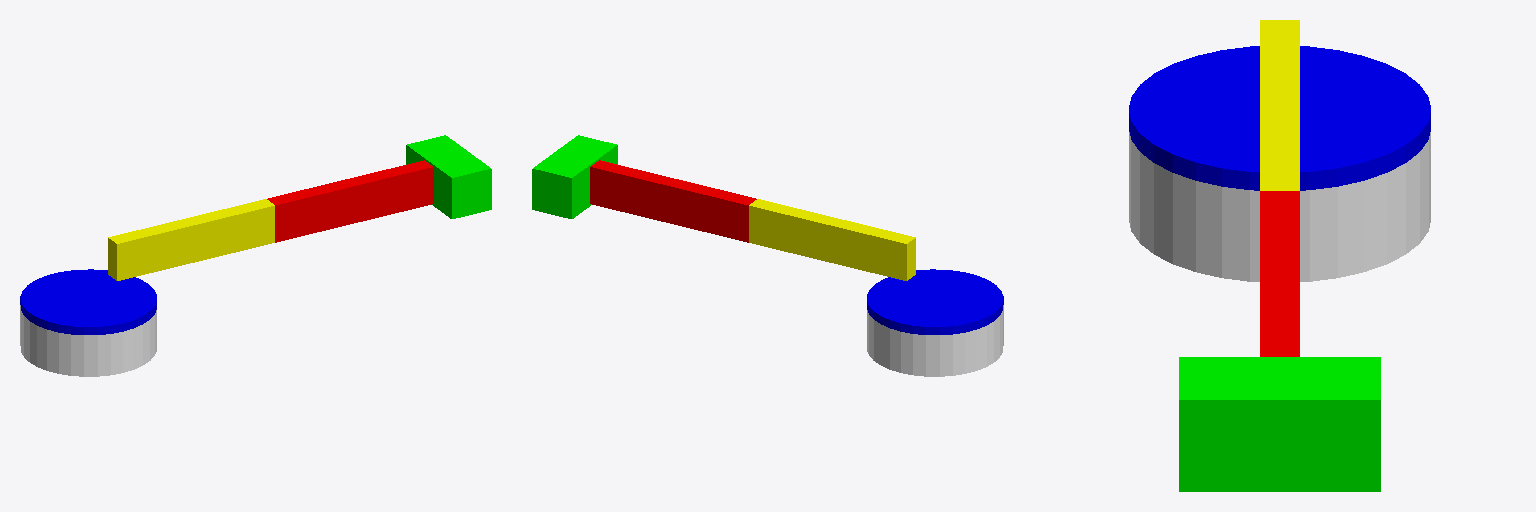
The robot description file, URDF, robot "URA":
<?xml version="1.0"?>
<robot name="URA">

    <link name="base_link">
        <visual name="base_viz">
            <origin xyz="0 0 0" rpy="0 0 0"/>
            <geometry>
                <cylinder radius="0.075" length="0.05"/>
            </geometry>
            <material name="White">
                <color rgba="1 1 1 1"/>
            </material>
        </visual>

        <collision>
            <origin rpy="0 0 0" xyz="0 0 0"/>
            <geometry>
                <cylinder radius="0.075" length="0.05"/>
            </geometry>
        </collision>

        <inertial>
            <mass value="1"/>
            <inertia ixx="1.0" ixy="0.0" ixz="0.0" iyy="0.5" iyz="0.0" izz="1.0"/>
        </inertial>
    </link>
    <gazebo reference="base_link">
        <material>Gazebo/White</material>
    </gazebo>

    <link name="base_plate">
        <visual name="base_plate_viz">
            <origin xyz="0 0 0" rpy="0 0 0"/>
            <geometry>
                <cylinder radius="0.075" length="0.01"/>
            </geometry>
            <material name="Blue">
                <color rgba="0 0 1 1"/>
            </material>
        </visual>

        <collision>
            <origin rpy="0 0 0" xyz="0 0 0"/>
            <geometry>
                <cylinder radius="0.075" length="0.01"/>
            </geometry>
        </collision>

        <inertial>
            <mass value="1"/>
            <inertia ixx="1.0" ixy="0.0" ixz="0.0" iyy="0.5" iyz="0.0" izz="1.0"/>
        </inertial>
    </link>
    <gazebo reference="base_plate">
        <material>Gazebo/Blue</material>
    </gazebo>

    <link name="bottom_arm">
        <visual name="bottom_arm_viz">
            <origin xyz="0.1 0 0" rpy="0 0 0"/>
            <geometry>
                <box size="0.20 0.02 0.045"/>
            </geometry>
            <material name="Yellow">
                <color rgba="1 1 0 1"/>
            </material>
        </visual>

        <collision>
            <origin rpy="0 0 0" xyz="0.1 0 0"/>
            <geometry>
                <box size="0.20 0.02 0.045"/>
            </geometry>
        </collision>

        <inertial>
            <mass value="1"/>
            <inertia ixx="1.0" ixy="0.0" ixz="0.0" iyy="0.5" iyz="0.0" izz="1.0"/>
        </inertial>
    </link>
    <gazebo reference="bottom_arm">
        <material>Gazebo/Yellow</material>
    </gazebo>

    <link name="top_arm">
        <visual name="top_arm_viz">
            <origin xyz="0.1 0 0" rpy="0 0 0"/>
            <geometry>
                <box size="0.20 0.02 0.045"/>
            </geometry>
            <material name="Red">
                <color rgba="1 0 0 1"/>
            </material>
        </visual>

        <collision>
            <origin rpy="0 0 0" xyz="0.1 0 0"/>
            <geometry>
                <box size="0.20 0.02 0.045"/>
            </geometry>
        </collision>

        <inertial>
            <mass value="1"/>
            <inertia ixx="1.0" ixy="0.0" ixz="0.0" iyy="0.5" iyz="0.0" izz="1.0"/>
        </inertial>
    </link>
    <gazebo reference="top_arm">
        <material>Gazebo/Red</material>
    </gazebo>

    <link name="tool">
        <visual name="tool_viz">
            <origin xyz="0 -0.1 0" rpy="0 0 0"/>
            <geometry>
                <box size="0.1 0.05 0.05"/>
            </geometry>
            <material name="Lime">
                <color rgba="0 1 0 1"/>
            </material>
        </visual>

        <collision>
            <origin rpy="0 0 0" xyz="0 -0.1 0"/>
            <geometry>
                <box size="0.1 0.05 0.05"/>
            </geometry>
        </collision>

        <inertial>
            <mass value="1"/>
            <inertia ixx="1.0" ixy="0.0" ixz="0.0" iyy="0.5" iyz="0.0" izz="1.0"/>
        </inertial>
    </link>
    <gazebo reference="tool">
        <material>Gazebo/Green</material>
    </gazebo>

    <joint name="base_rotation" type="revolute">
        <parent link="base_link"/>
        <child link="base_plate"/>
        <origin xyz="0 0 0.03" rpy="0 0 0" />
        <axis xyz="0 0 1"/>
        <limit lower="-3.14" upper="3.14" effort="10" velocity="10"/>
        <dynamics damping="50.0" friction="1.0"/>
    </joint>

    <joint name="bottom_rotation" type="revolute">
        <parent link="base_plate"/>
        <child link="bottom_arm"/>
        <origin xyz="0.03 0 0.045" rpy="0 0 0" />
        <axis xyz="0 1 0"/>
        <limit lower="-1.57" upper="0.0" effort="10" velocity="10"/>
        <dynamics damping="50.0" friction="1.0"/>
    </joint>

    <joint name="top_rotation" type="revolute">
        <parent link="bottom_arm"/>
        <child link="top_arm"/>
        <origin xyz="0.2 0 0" rpy="0 0 0" />
        <axis xyz="0 1 0"/>
        <limit lower="-1.57" upper="1.57" effort="10" velocity="10"/>
        <dynamics damping="50.0" friction="1.0"/>
    </joint>

    <joint name="tool_rotation" type="revolute">
        <parent link="top_arm"/>
        <child link="tool"/>
        <origin xyz="0.125 0 0" rpy="0 0 1.570796" />
        <axis xyz="0 1 0"/>
        <limit lower="-3.14" upper="3.14" effort="10" velocity="10"/>
        <dynamics damping="0.0" friction="0.0"/>
    </joint>

    <transmission name="tran1">
        <type>transmission_interface/SimpleTransmission</type>
        <joint name="base_rotation">
            <hardwareInterface>hardware_interface/PositionJointInterface</hardwareInterface>
        </joint>
        <actuator name="motor1">
            <hardwareInterface>hardware_interface/PositionJointInterface</hardwareInterface>
            <mechanicalReduction>1</mechanicalReduction>
        </actuator>
    </transmission>

    <transmission name="tran1">
        <type>transmission_interface/SimpleTransmission</type>
        <joint name="bottom_rotation">
            <hardwareInterface>hardware_interface/PositionJointInterface</hardwareInterface>
        </joint>
        <actuator name="motor1">
            <hardwareInterface>hardware_interface/PositionJointInterface</hardwareInterface>
            <mechanicalReduction>1</mechanicalReduction>
        </actuator>
    </transmission>

    <transmission name="tran1">
        <type>transmission_interface/SimpleTransmission</type>
        <joint name="top_rotation">
            <hardwareInterface>hardware_interface/PositionJointInterface</hardwareInterface>
        </joint>
        <actuator name="motor1">
            <hardwareInterface>hardware_interface/PositionJointInterface</hardwareInterface>
            <mechanicalReduction>1</mechanicalReduction>
        </actuator>
    </transmission>

    <transmission name="tran1">
        <type>transmission_interface/SimpleTransmission</type>
        <joint name="tool_rotation">
            <hardwareInterface>hardware_interface/PositionJointInterface</hardwareInterface>
        </joint>
        <actuator name="motor1">
            <hardwareInterface>hardware_interface/PositionJointInterface</hardwareInterface>
            <mechanicalReduction>1</mechanicalReduction>
        </actuator>
    </transmission>

    <!-- ros_control plugin -->
    <gazebo>
        <plugin filename="libgazebo_ros_control.so" name="gazebo_ros_control">
            <robotNamespace>/proc_ura</robotNamespace>
        </plugin>
    </gazebo>

</robot>

--- Facts derived from the render (not from the file) ---
3 views of the same robot in one strip: view 1: azimuth 30°, elevation 25°; view 2: azimuth 150°, elevation 25°; view 3: azimuth 270°, elevation 25° (orthographic).
Robot: URA — 5 links, 4 joints (4 revolute); root link base_link; default pose: every joint at zero.
Links seen in each view (by area): view 1: bottom_arm, top_arm, base_plate, base_link, tool; view 2: bottom_arm, top_arm, base_plate, base_link, tool; view 3: base_plate, tool, base_link, bottom_arm, top_arm.
Boxes of the visible links, x1,y1,x2,y2 form: bottom_arm: [108, 199, 274, 280]; top_arm: [267, 160, 433, 242]; base_plate: [20, 269, 156, 334]; base_link: [20, 305, 156, 376]; tool: [406, 135, 491, 218]; bottom_arm: [749, 199, 915, 280]; top_arm: [590, 160, 756, 242]; base_plate: [867, 269, 1003, 334]; base_link: [867, 305, 1003, 376]; tool: [532, 135, 617, 218]; base_plate: [1129, 46, 1430, 190]; tool: [1179, 357, 1380, 491]; base_link: [1129, 132, 1430, 281]; bottom_arm: [1260, 20, 1299, 190]; top_arm: [1260, 191, 1299, 356].
Bounding box of the posed robot: 0.555 × 0.15 × 0.125 m (x, y, z).
Geometry: primitives only (box / cylinder / sphere), no mesh files.
